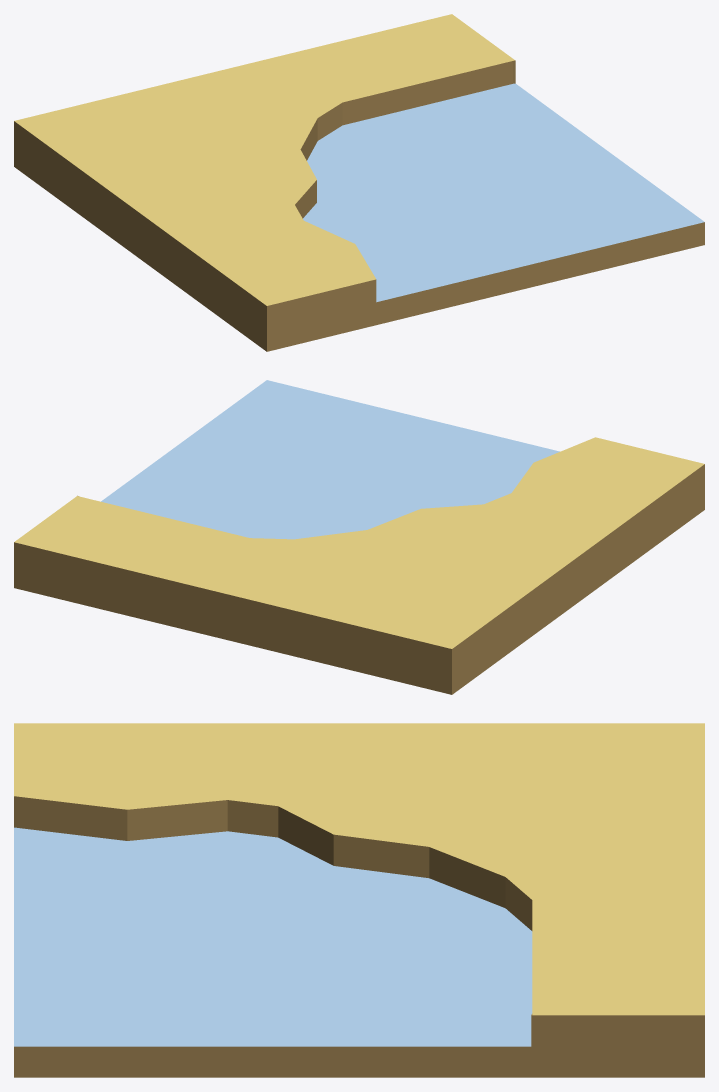
The model's file is Terrain_Modular_Tiles_Sand_Dirt_Water_Edge_Corner_Outer_02.fbx.
The picture shows the model from 3 angles, top to bottom: view 1: azimuth 30°, elevation 25°; view 2: azimuth 150°, elevation 25°; view 3: azimuth 270°, elevation 25°; orthographic projection. The views are drawn at different scales.
Parts seen in each view (by area): view 1: Terrain_Modular_Tiles_Sand_Dirt_Water_Edge_Corner_Outer_02; view 2: Terrain_Modular_Tiles_Sand_Dirt_Water_Edge_Corner_Outer_02; view 3: Terrain_Modular_Tiles_Sand_Dirt_Water_Edge_Corner_Outer_02.
Boxes of the visible parts, left/top/right/bottom form: Terrain_Modular_Tiles_Sand_Dirt_Water_Edge_Corner_Outer_02: left=14, top=14, right=704, bottom=351; Terrain_Modular_Tiles_Sand_Dirt_Water_Edge_Corner_Outer_02: left=14, top=380, right=704, bottom=694; Terrain_Modular_Tiles_Sand_Dirt_Water_Edge_Corner_Outer_02: left=14, top=723, right=704, bottom=1077.
Size of the model in its own units: 3000 by 300 by 3000.
